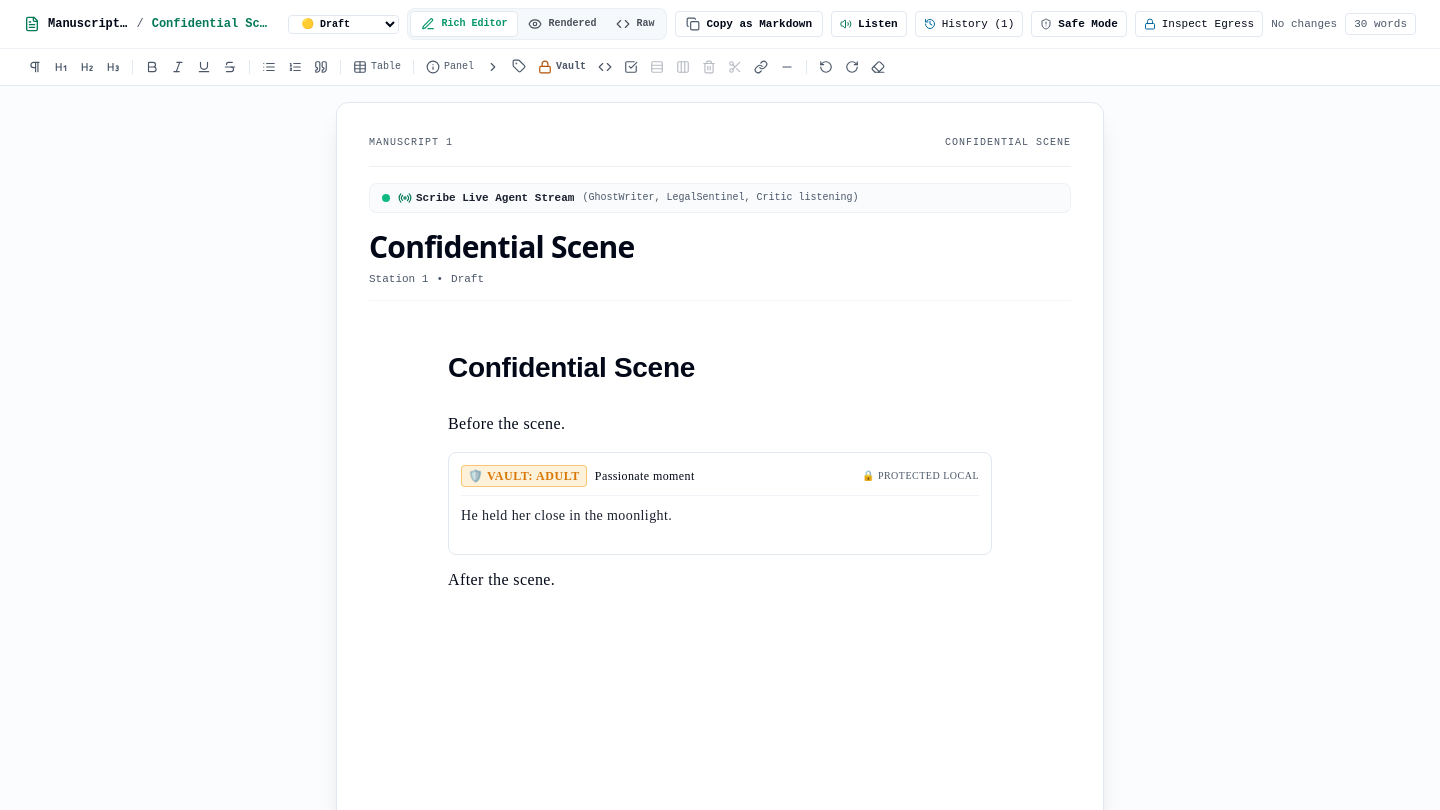
Test case: LivingDocumentCanvas - CORE Vault & Safe Mode › renders Safe Mode toggle and toggles scribe-safe-mode class
Click toggle to turn Safe Mode ON
Click the button with test id "scribe-safe-mode-toggle".
click(1079, 24)  # box x1=1031 y1=11 x2=1127 y2=37
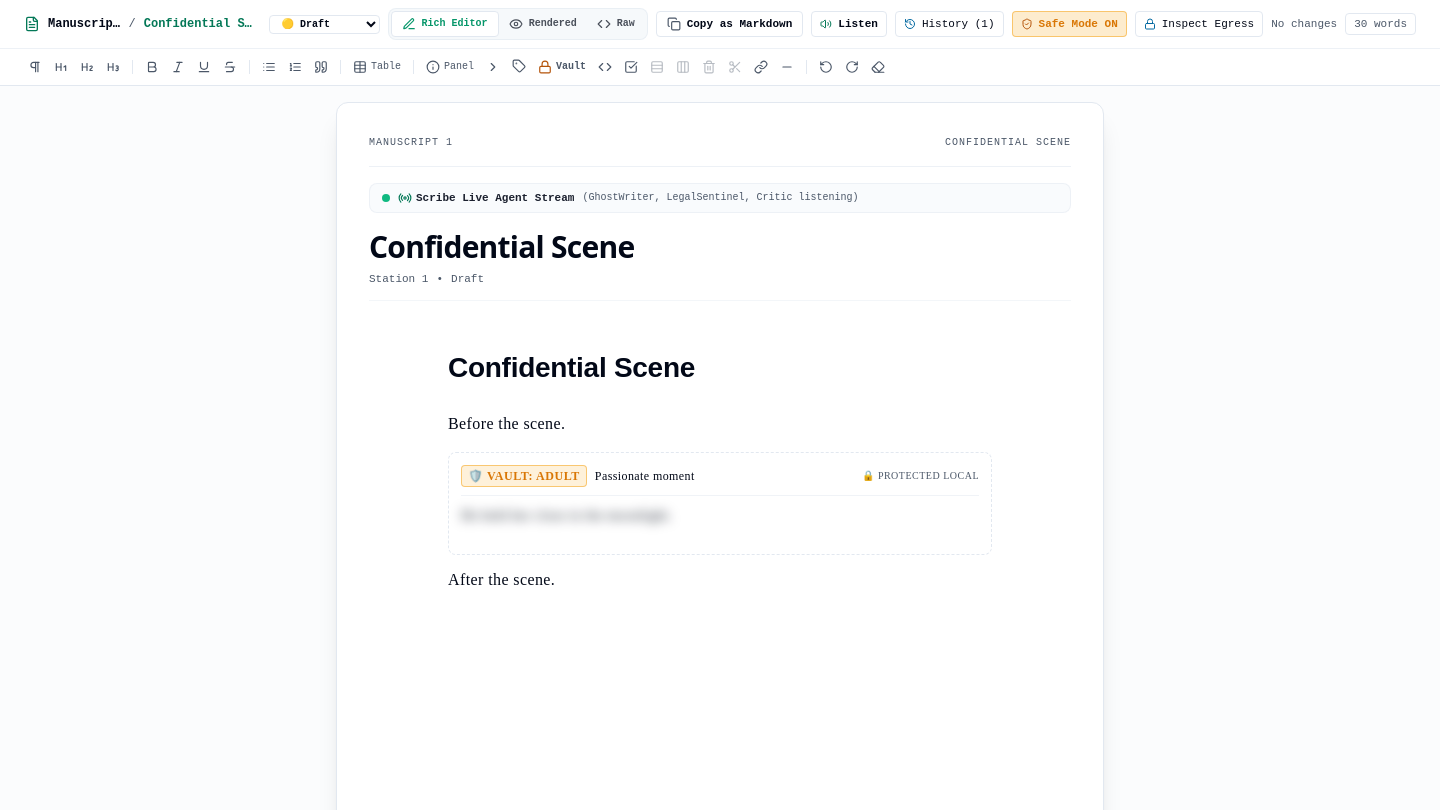
Now the button with test id "scribe-safe-mode-toggle" reads "Safe Mode ON"
Click again to turn Safe Mode OFF
Click the button with test id "scribe-safe-mode-toggle".
click(1069, 24)  # box x1=1012 y1=11 x2=1127 y2=37
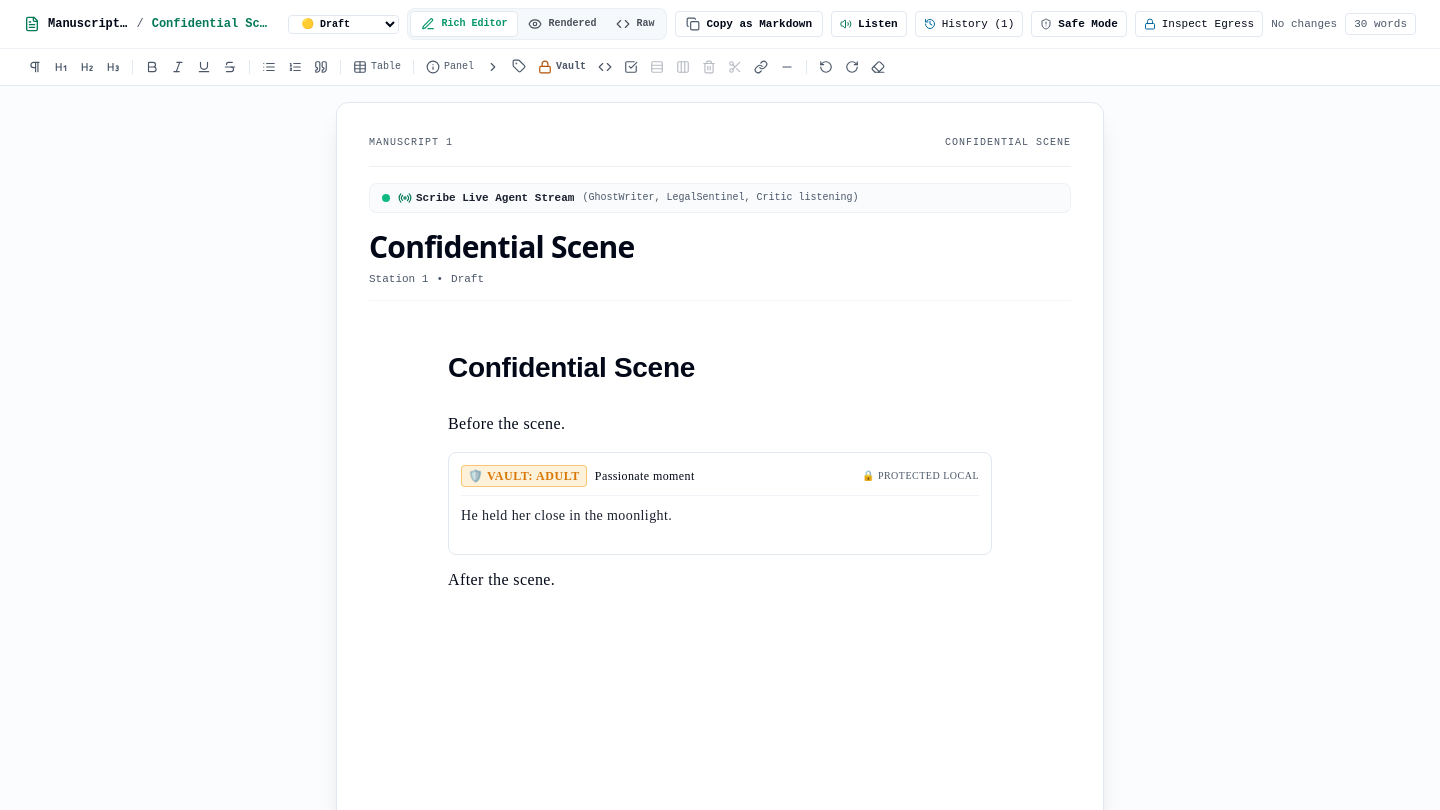
Now the button with test id "scribe-safe-mode-toggle" reads "Safe Mode", box x1=1031 y1=11 x2=1127 y2=37
